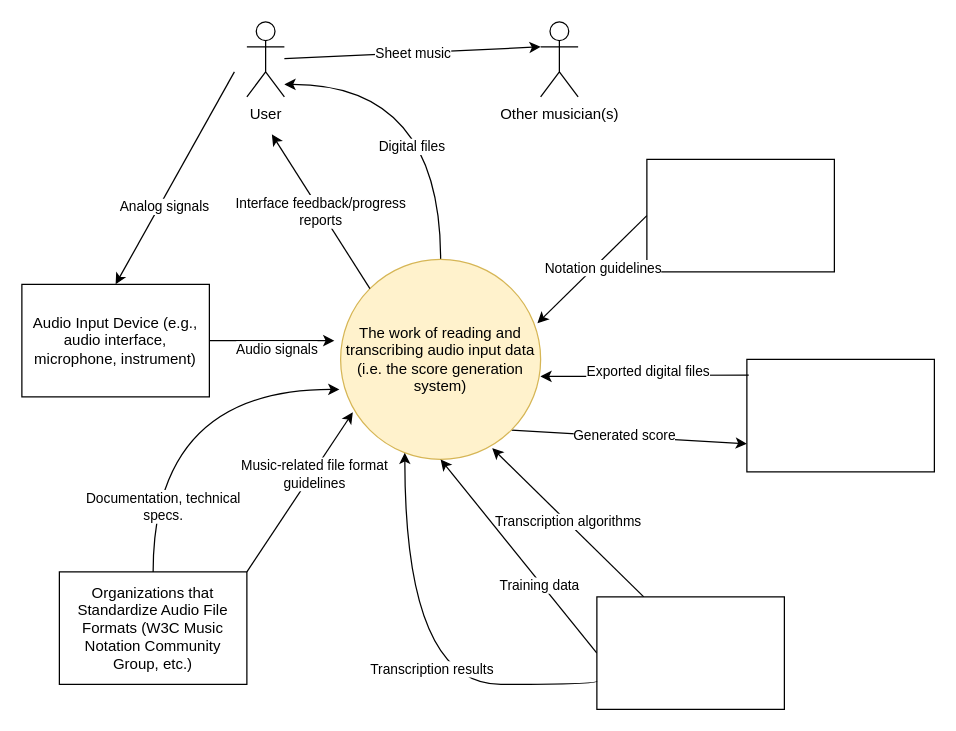
Some shapes in this 956 by 731 pixel diagram are drawn without their labels. Here are the shapes that lost their labels. From the top down, the centre of each, then its label:
[740,215]: Organizations that Standardize Music Theory Notation/Symbols/Rules
[840,415]: Output Device/Mechanism (e.g., printer, export file, etc.)
[690,652]: External Libraries/Audio Processors (libsndfile, audio stream I/O drivers, etc.)
